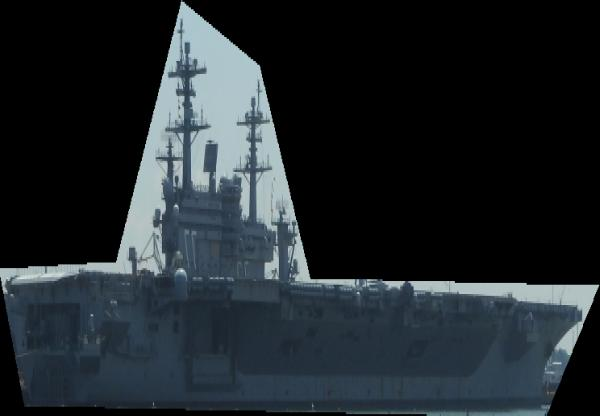Aircraft Carrier: (0, 1, 600, 416)
